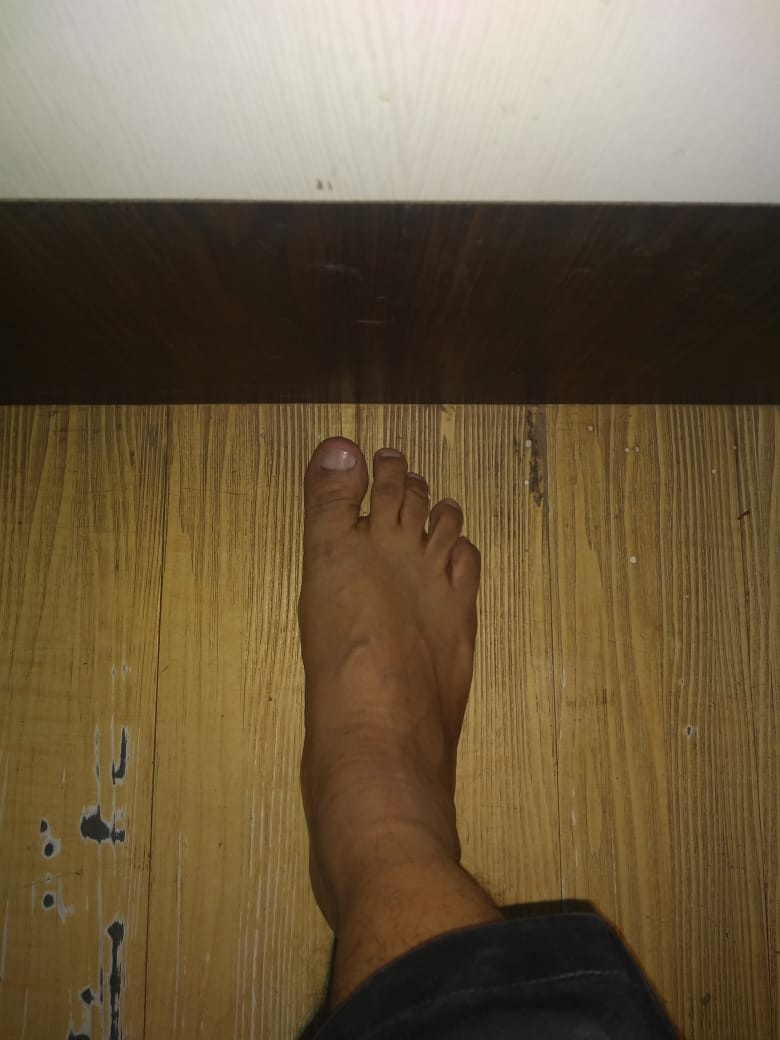feet: (276, 403, 485, 917)
